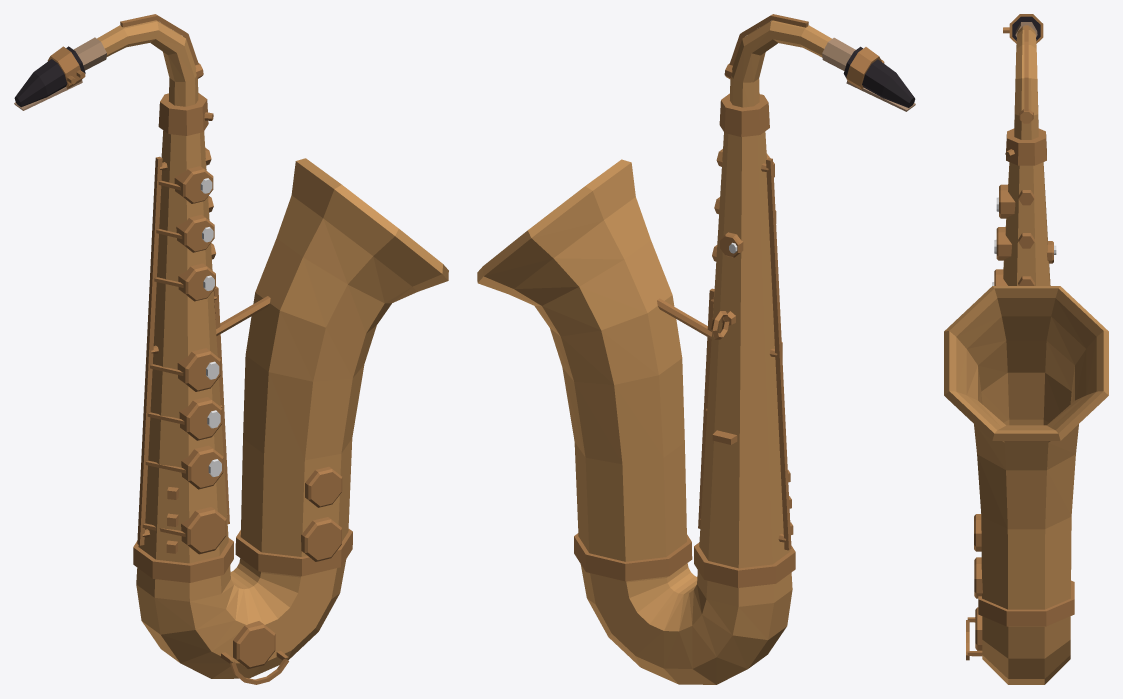
File: sax.glb
3 views of the same model, side by side, from view 1: azimuth 30°, elevation 25°; view 2: azimuth 150°, elevation 25°; view 3: azimuth 270°, elevation 25° (orthographic). The views are drawn at different scales.
Visible parts, largest first — view 1: saxophone-body-metal, saxophone-body-matte, mouthpiece-mesh, mouthpiece-ligature; view 2: saxophone-body-metal, mouthpiece-mesh, saxophone-body-matte, mouthpiece-ligature; view 3: saxophone-body-metal, mouthpiece-ligature, mouthpiece-mesh.
Part boxes in pixels (x1,y1,x2,y2): saxophone-body-metal: (97,14,448,684); saxophone-body-matte: (73,37,221,476); mouthpiece-mesh: (14,46,85,110); mouthpiece-ligature: (47,46,85,88); saxophone-body-metal: (477,14,831,684); mouthpiece-mesh: (843,46,915,111); saxophone-body-matte: (729,37,855,253); mouthpiece-ligature: (846,47,884,89); saxophone-body-metal: (944,25,1108,684); mouthpiece-ligature: (1003,14,1043,43); mouthpiece-mesh: (1012,16,1040,40).
Size of the model in its own units: 0.4503 by 0.7037 by 0.1755.
